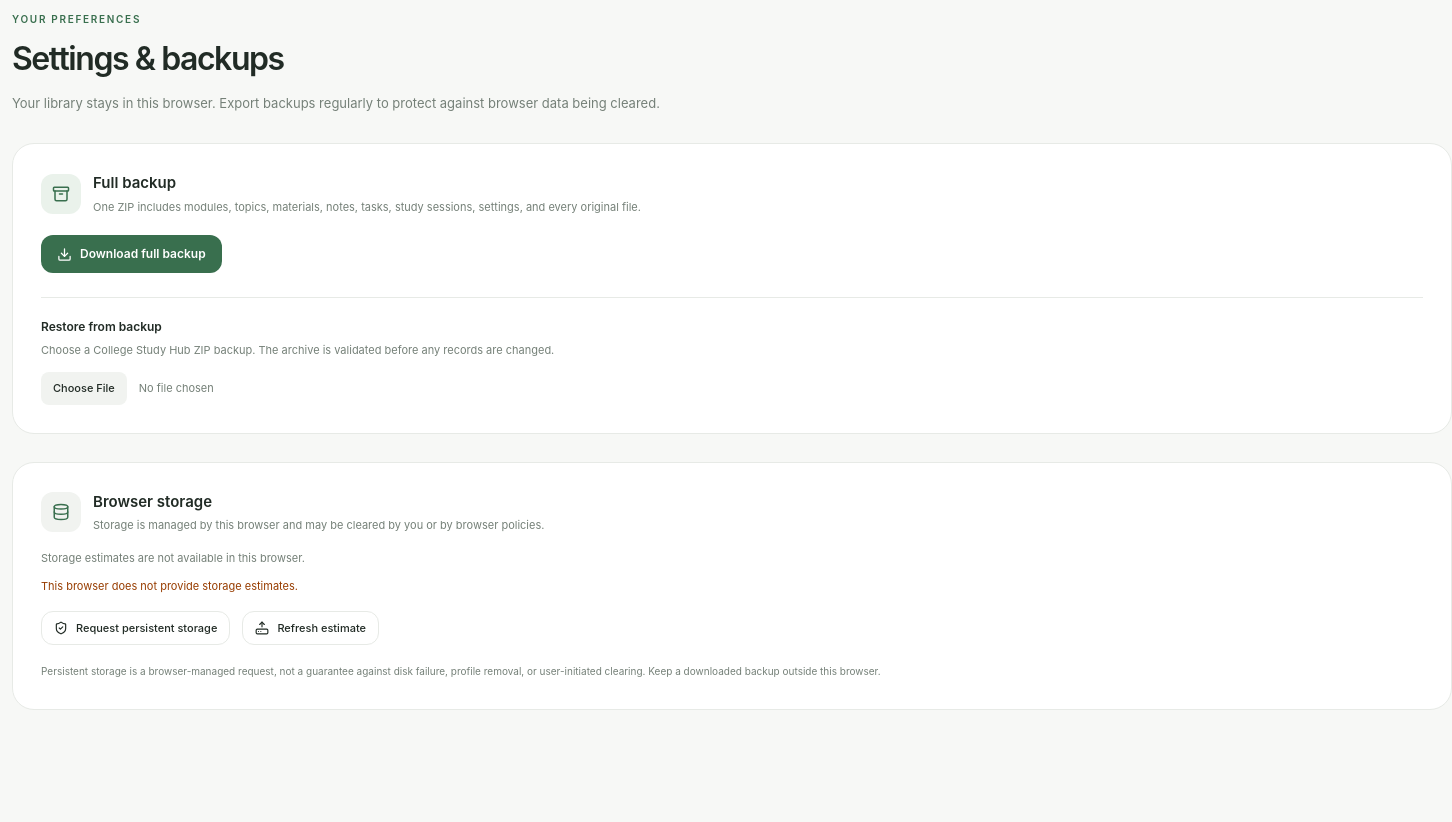
Scenario: SettingsPage storage controls › reports when the browser does not provide storage estimates or persistence
Check: the text "Storage estimates are not available in this browser." is shown, box [41,550,305,564]
Click the button "Request persistent storage": [136, 628] box [41,610,230,645]
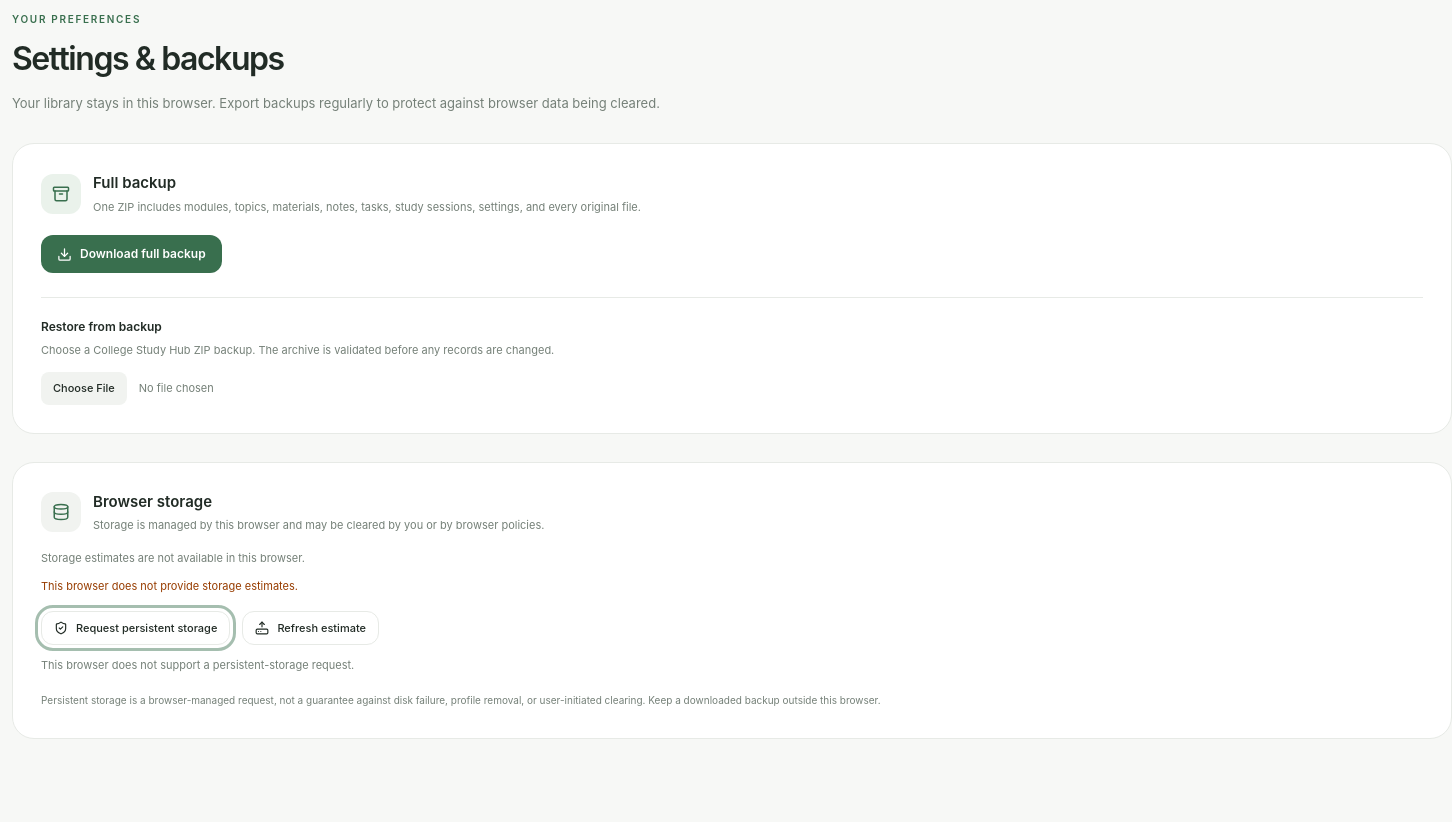
Check: the text "This browser does not support a persistent-storage request." is shown, box [41,658,354,672]
